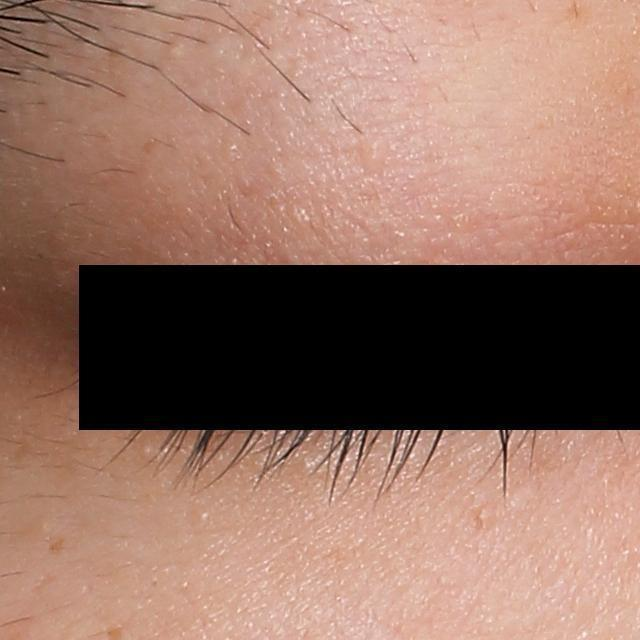comedo: (475, 508, 490, 526)
melasma: (44, 535, 64, 556)
